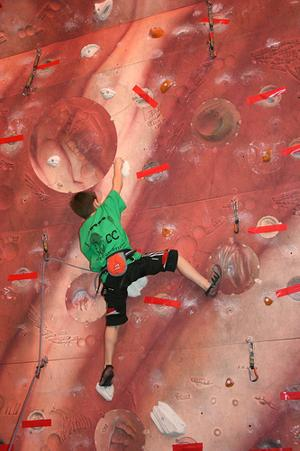person: (69, 159, 223, 385)
